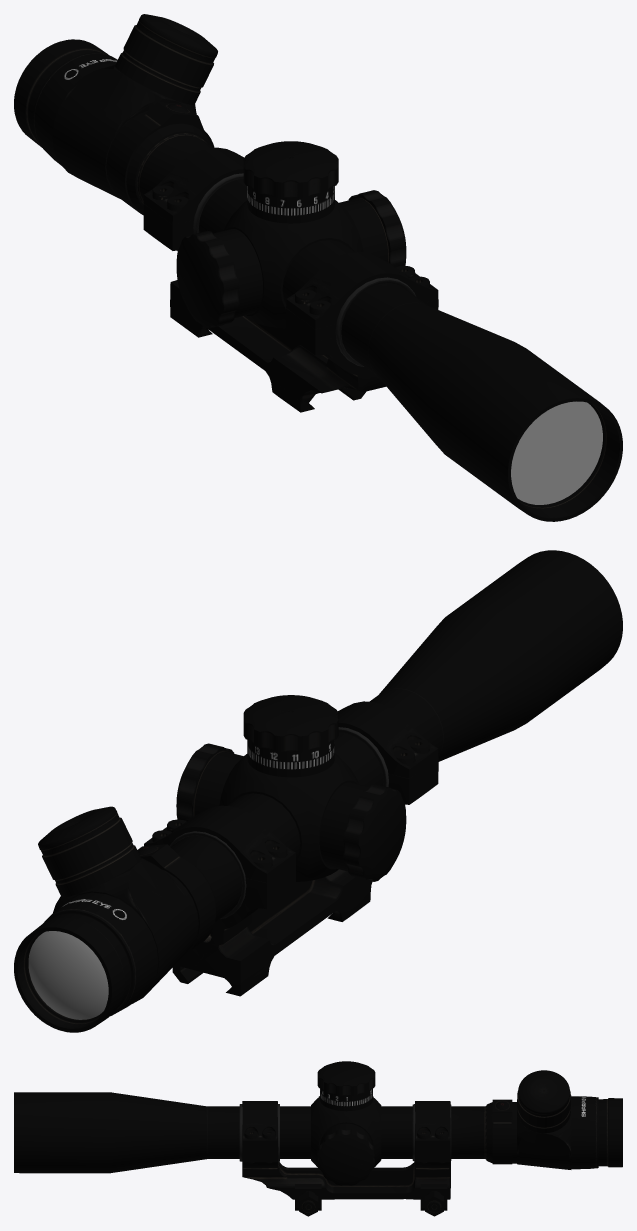
Rendered from Scope 12x.fbx.
3 renders of one model, top to bottom at view 1: azimuth 30°, elevation 25°; view 2: azimuth 150°, elevation 25°; view 3: azimuth 270°, elevation 25°, orthographic. The views are drawn at different scales.
Visible parts, largest first — view 1: Body, Front; view 2: Body, Back; view 3: Body.
Part boxes in pixels (x1,y1,x2,y2): Body: (14, 14, 622, 521); Front: (511, 401, 602, 504); Body: (14, 550, 622, 1032); Back: (28, 931, 108, 1019); Body: (14, 1061, 622, 1216).
Size of the model in its own units: 52.54 by 59.74 by 238.
2 materials, 1 textured.
